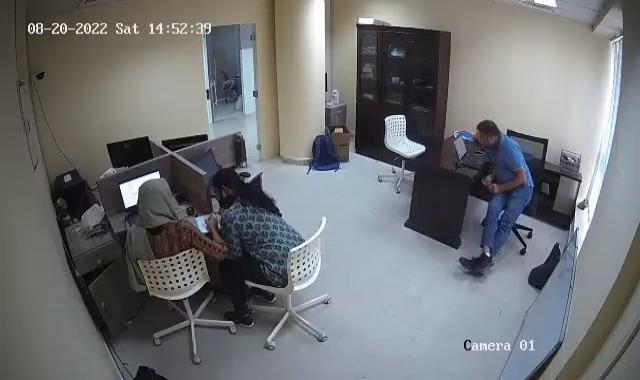no_hairnet: (133, 176, 174, 220), (208, 165, 242, 199), (473, 111, 502, 148)
